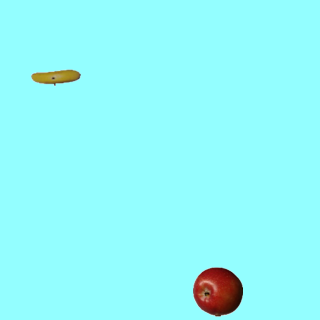Apple Braeburn: (192, 266, 242, 316)
Banana: (30, 52, 80, 102)
